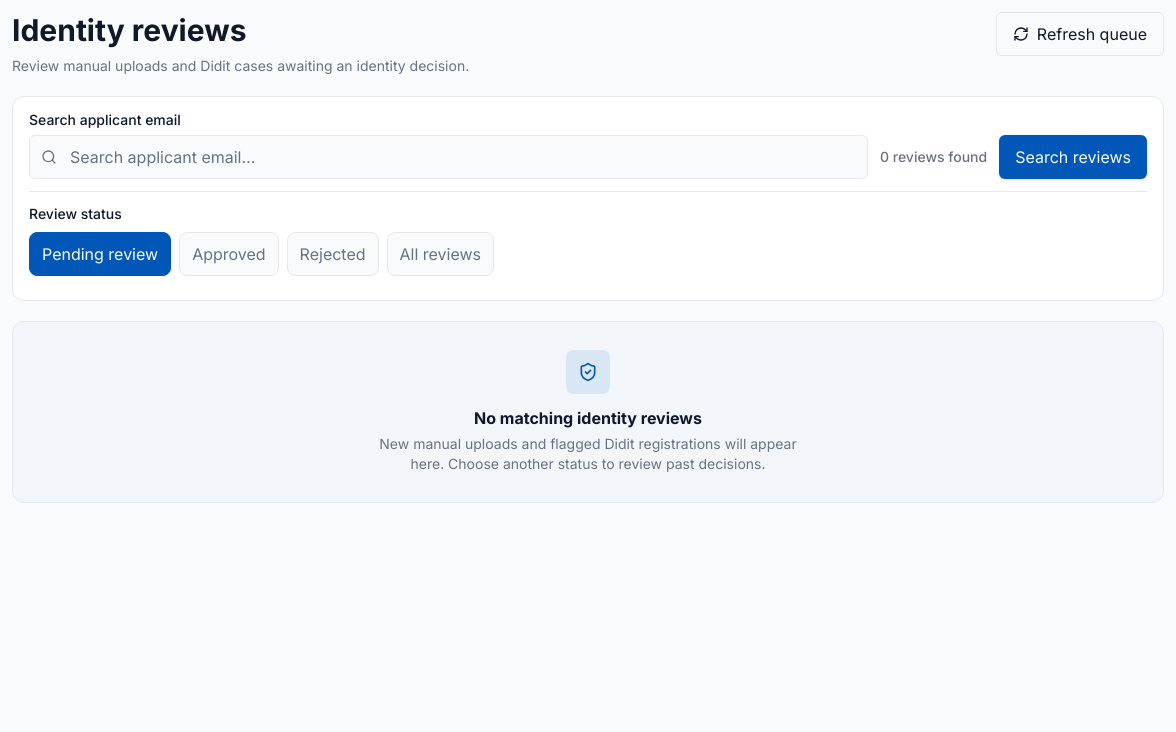
Test: identity review filters › keeps pending as the default and exposes past decisions in the shared status rail
Step 1. Click the button "Approved" → click(229, 254), box [179, 232, 279, 276]
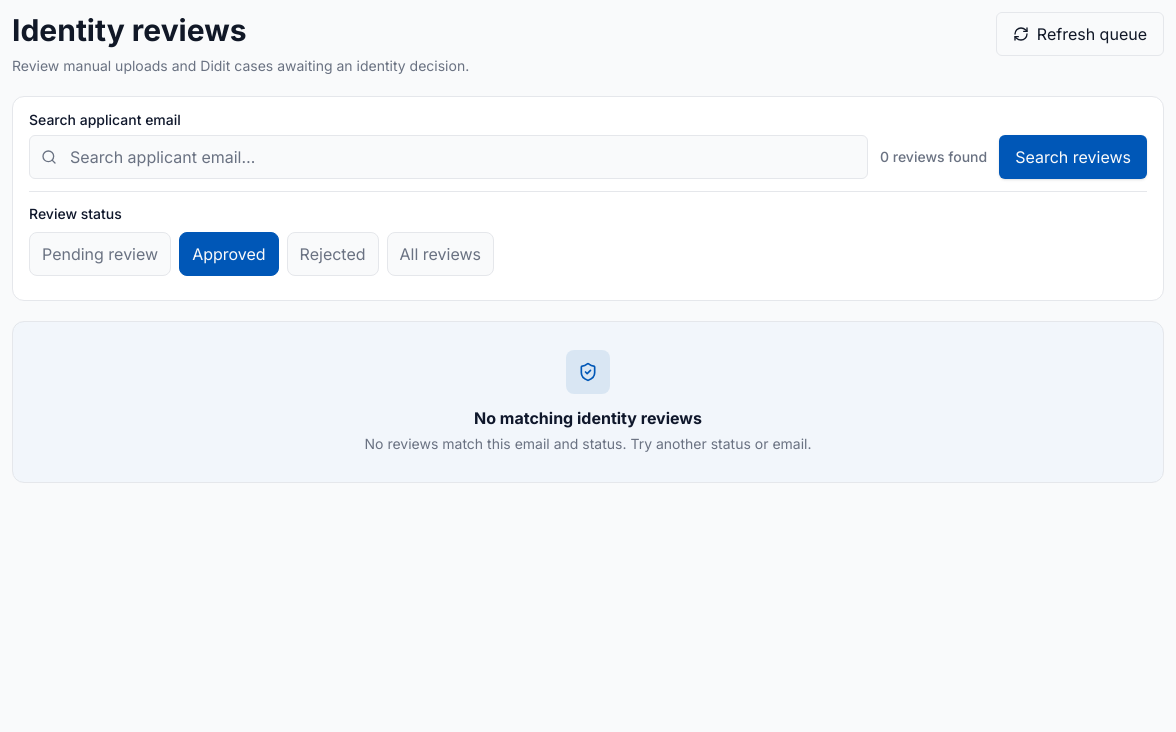
Expected: the text "No reviews match this email and status" is shown, [364, 435, 812, 452]
